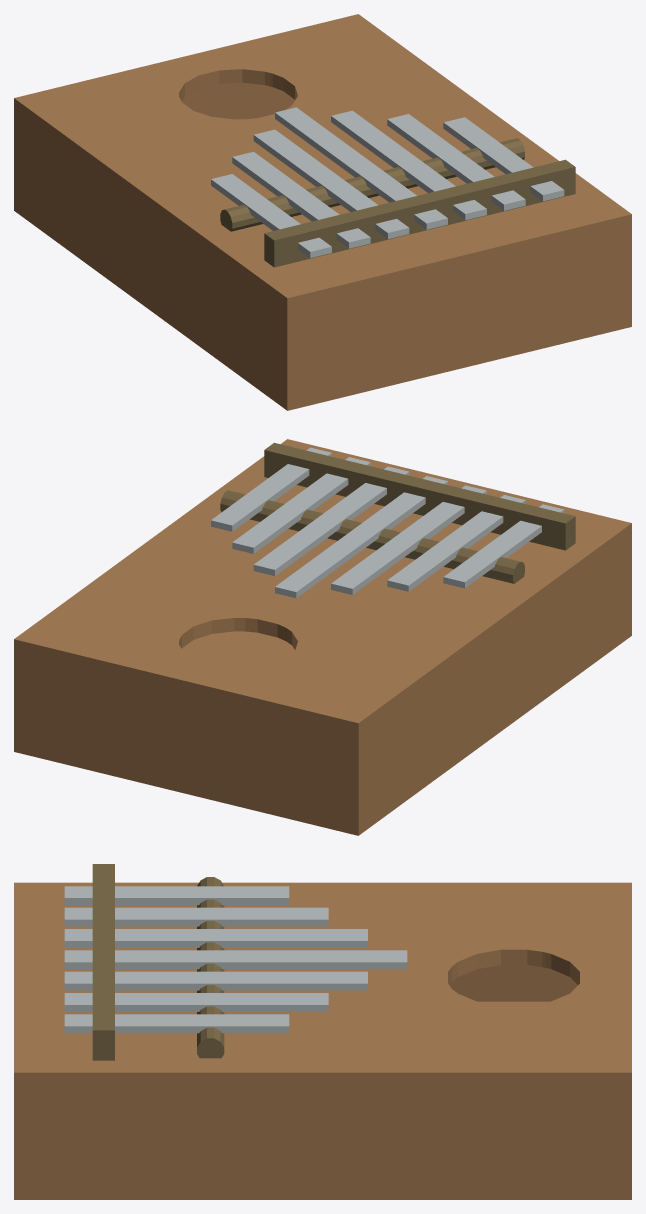
3 views of the same model, one above another, from view 1: azimuth 30°, elevation 25°; view 2: azimuth 150°, elevation 25°; view 3: azimuth 270°, elevation 25° (orthographic). The views are drawn at different scales.
Visible parts, largest first — view 1: WholeHollowWoodenKalimbaSoundbox, WholeTransverseRetainingBar, WholeMetalTine_04, WholeMetalTine_03, WholeMetalTine_05, WholeTransverseSaddleBridge, WholeMetalTine_02, WholeMetalTine_06, WholeMetalTine_07, WholeMetalTine_01; view 2: WholeHollowWoodenKalimbaSoundbox, WholeTransverseRetainingBar, WholeMetalTine_04, WholeMetalTine_03, WholeMetalTine_05, WholeTransverseSaddleBridge, WholeMetalTine_02, WholeMetalTine_06, WholeMetalTine_07, WholeMetalTine_01; view 3: WholeHollowWoodenKalimbaSoundbox, WholeMetalTine_04, WholeMetalTine_05, WholeMetalTine_03, WholeMetalTine_02, WholeMetalTine_06, WholeTransverseRetainingBar, WholeMetalTine_07, WholeMetalTine_01, WholeTransverseSaddleBridge.
Boxes of the visible parts, x1,y1,x2,y2 form: WholeHollowWoodenKalimbaSoundbox: [14, 14, 631, 410]; WholeTransverseRetainingBar: [264, 159, 575, 267]; WholeMetalTine_04: [275, 107, 447, 229]; WholeMetalTine_03: [253, 129, 409, 239]; WholeMetalTine_05: [331, 110, 486, 220]; WholeTransverseSaddleBridge: [220, 138, 524, 231]; WholeMetalTine_02: [232, 151, 370, 248]; WholeMetalTine_06: [387, 114, 525, 210]; WholeMetalTine_07: [443, 117, 564, 201]; WholeMetalTine_01: [211, 174, 331, 257]; WholeHollowWoodenKalimbaSoundbox: [14, 439, 631, 835]; WholeTransverseRetainingBar: [264, 442, 575, 550]; WholeMetalTine_04: [275, 476, 447, 598]; WholeMetalTine_03: [331, 485, 486, 594]; WholeMetalTine_05: [253, 466, 409, 575]; WholeTransverseSaddleBridge: [220, 490, 524, 583]; WholeMetalTine_02: [387, 495, 525, 591]; WholeMetalTine_06: [232, 457, 370, 553]; WholeMetalTine_07: [211, 447, 331, 531]; WholeMetalTine_01: [443, 504, 564, 588]; WholeHollowWoodenKalimbaSoundbox: [14, 882, 631, 1199]; WholeMetalTine_04: [64, 950, 407, 969]; WholeMetalTine_05: [64, 971, 367, 990]; WholeMetalTine_03: [64, 929, 367, 947]; WholeMetalTine_02: [64, 907, 328, 926]; WholeMetalTine_06: [64, 993, 328, 1011]; WholeTransverseRetainingBar: [92, 864, 114, 1060]; WholeMetalTine_07: [64, 1014, 289, 1033]; WholeMetalTine_01: [64, 886, 289, 905]; WholeTransverseSaddleBridge: [197, 877, 224, 1058].
Size of the model in its own units: 0.08 by 0.031 by 0.11.
